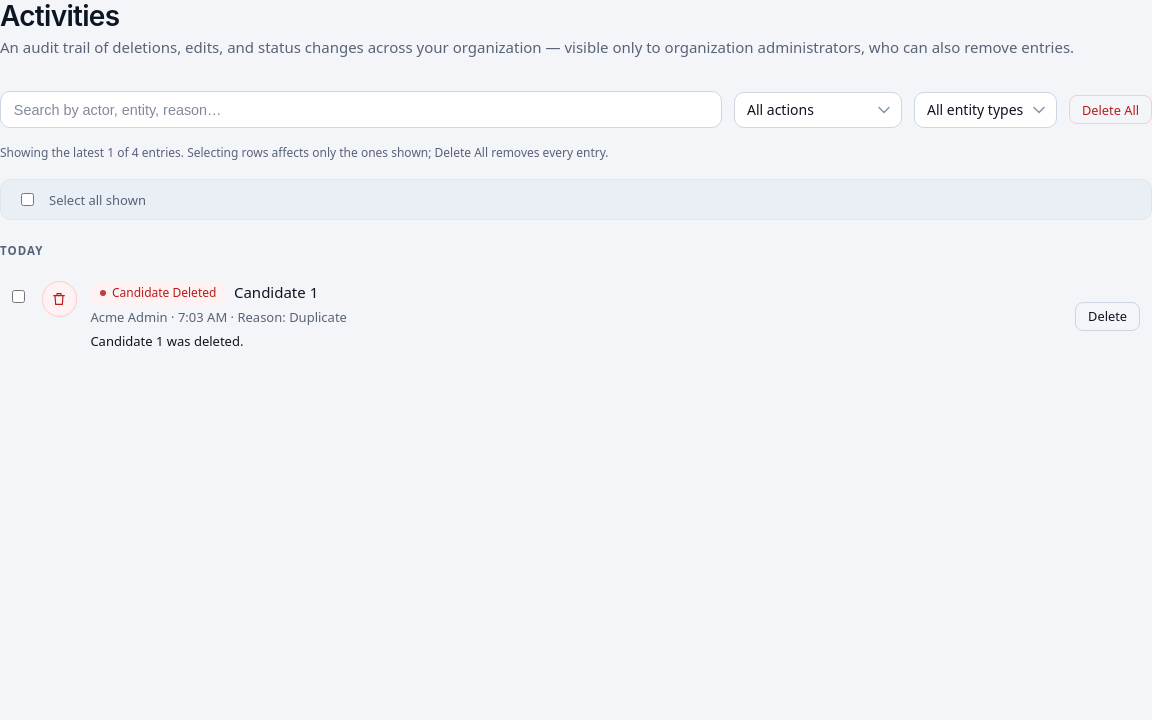
ActivitiesPage delete › lets an org admin delete an entry after confirming
This screenshot has width=1152, height=720.
Click the button "Delete": point(1108, 316) [1075, 302, 1140, 331]
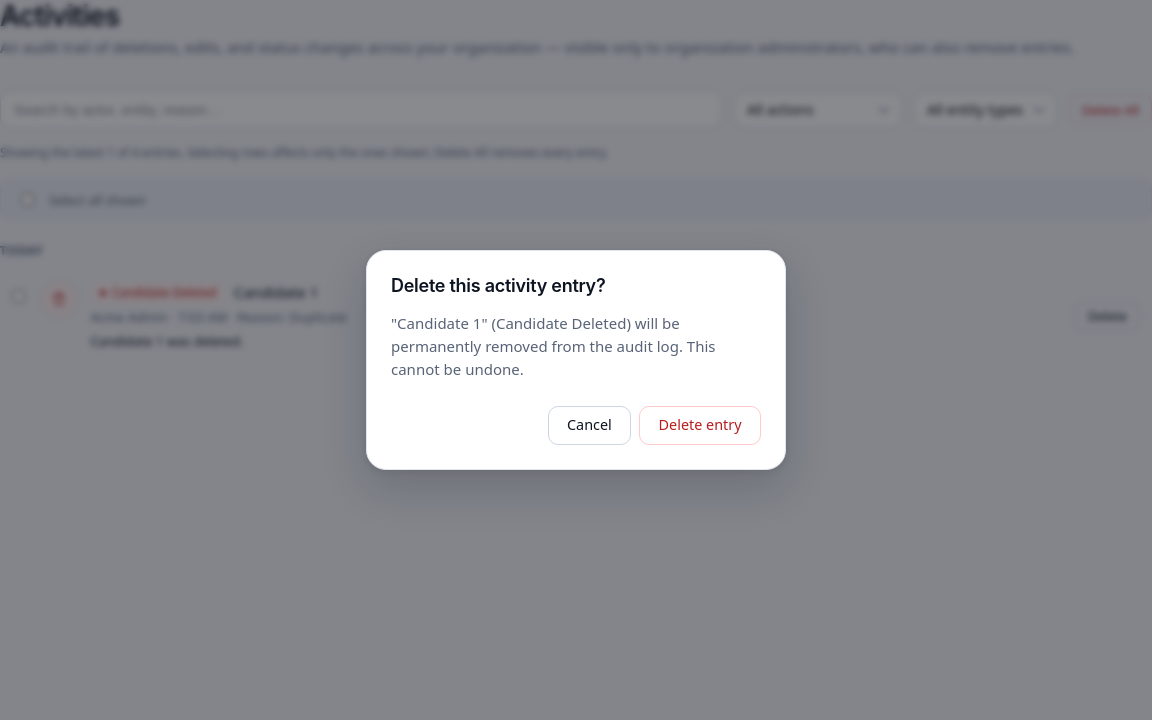
Click the button "Delete entry": point(700, 425) [639, 406, 761, 445]
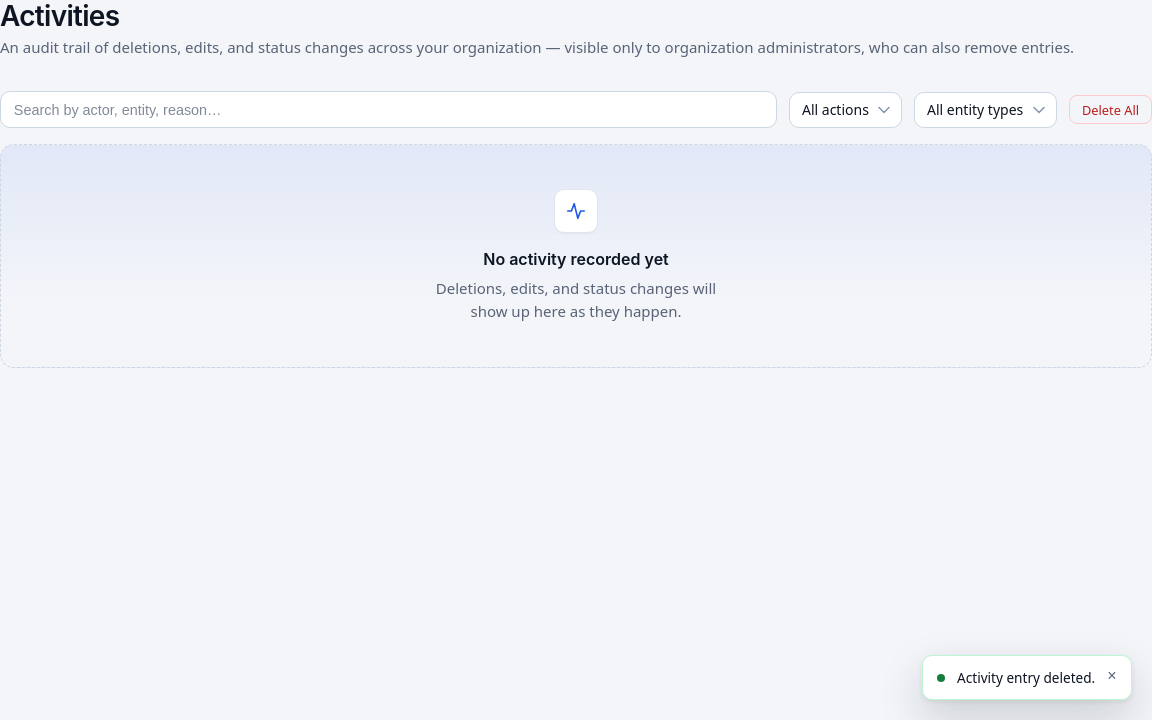
Expected: the text "No activity recorded yet" is shown, [483, 247, 669, 272]
